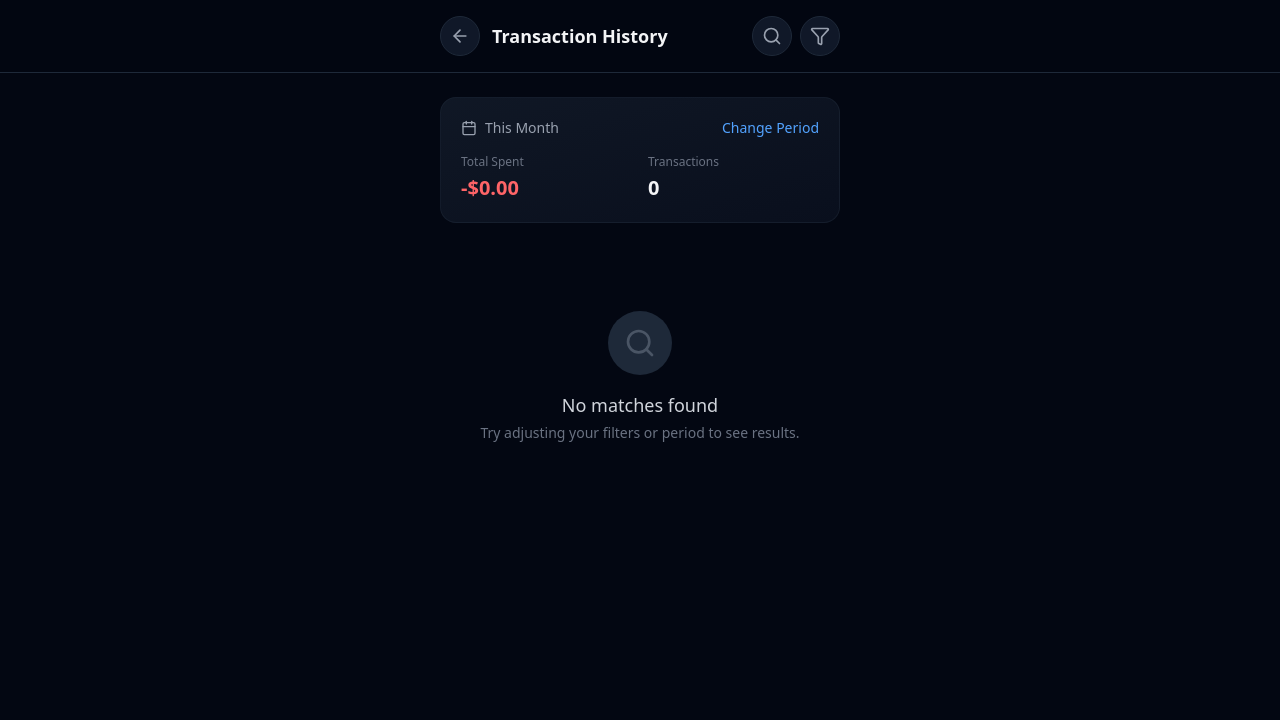
Test: TransactionHistory period selection › supports applying a custom range
This screenshot has width=1280, height=720.
Click the button "Change Period".
click(770, 128)  # box top-left (722, 118), bottom-right (819, 138)
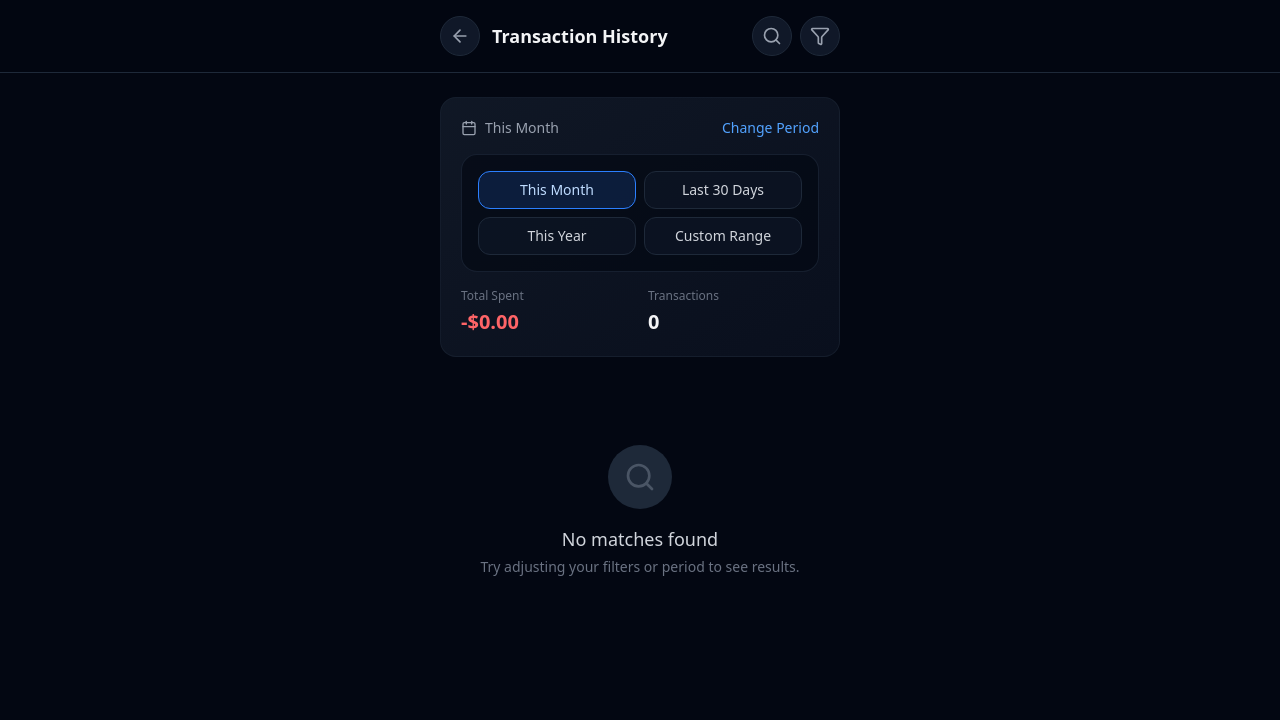
Click the button "Custom Range".
click(723, 236)  # box top-left (644, 217), bottom-right (802, 255)
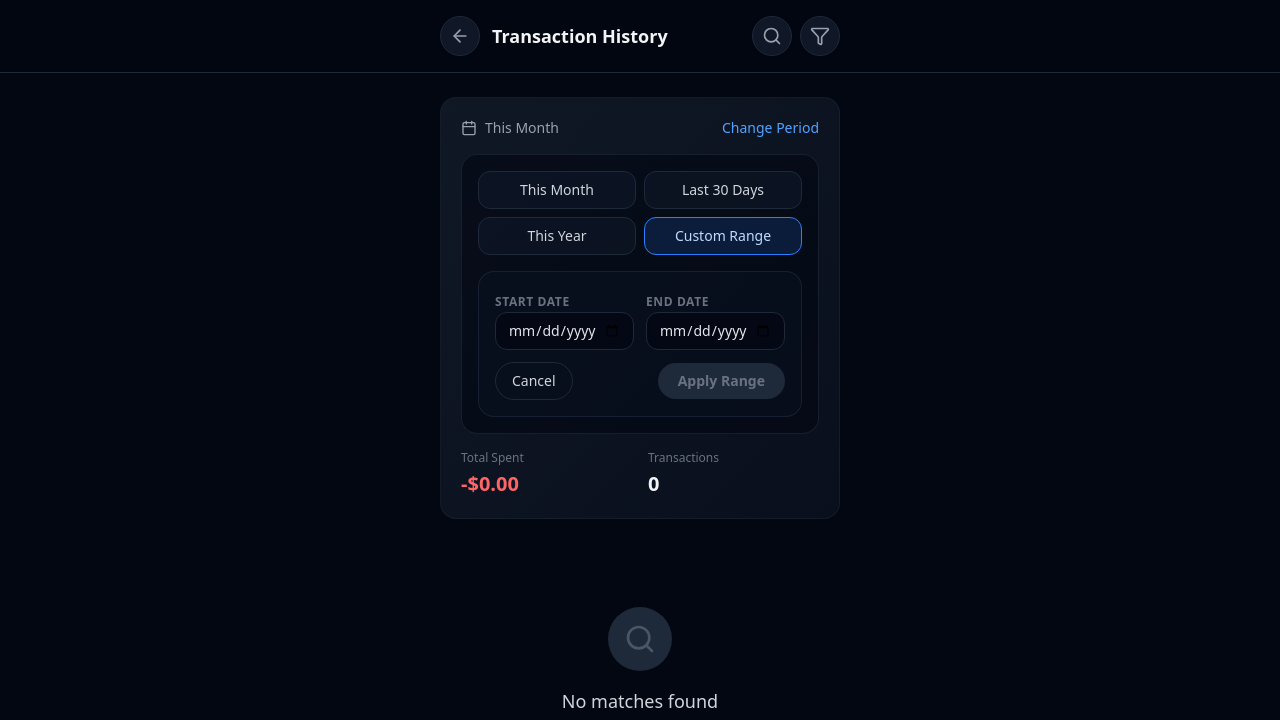
Type "2026-01-10" into the date field labelled "Start Date".
click(564, 331); type("2026-01-10")  # box top-left (495, 312), bottom-right (634, 350)
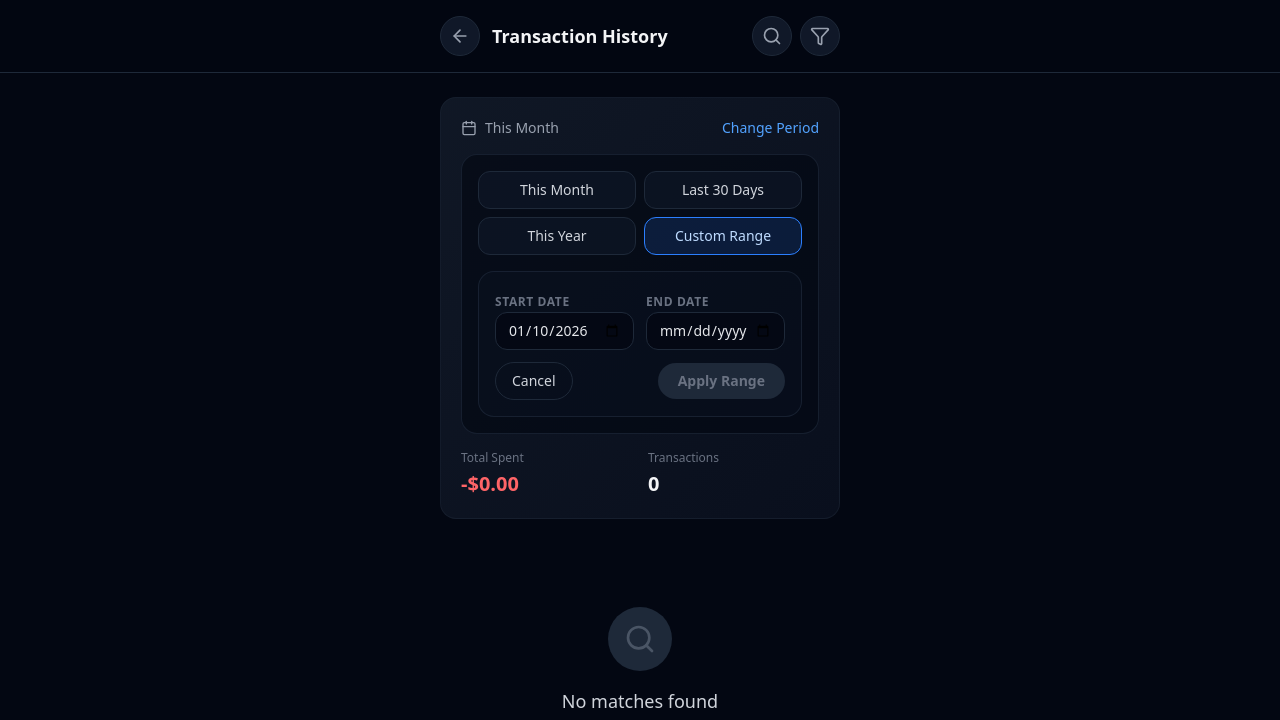
Type "2026-01-31" into the date field labelled "End Date".
click(716, 331); type("2026-01-31")  # box top-left (646, 312), bottom-right (785, 350)
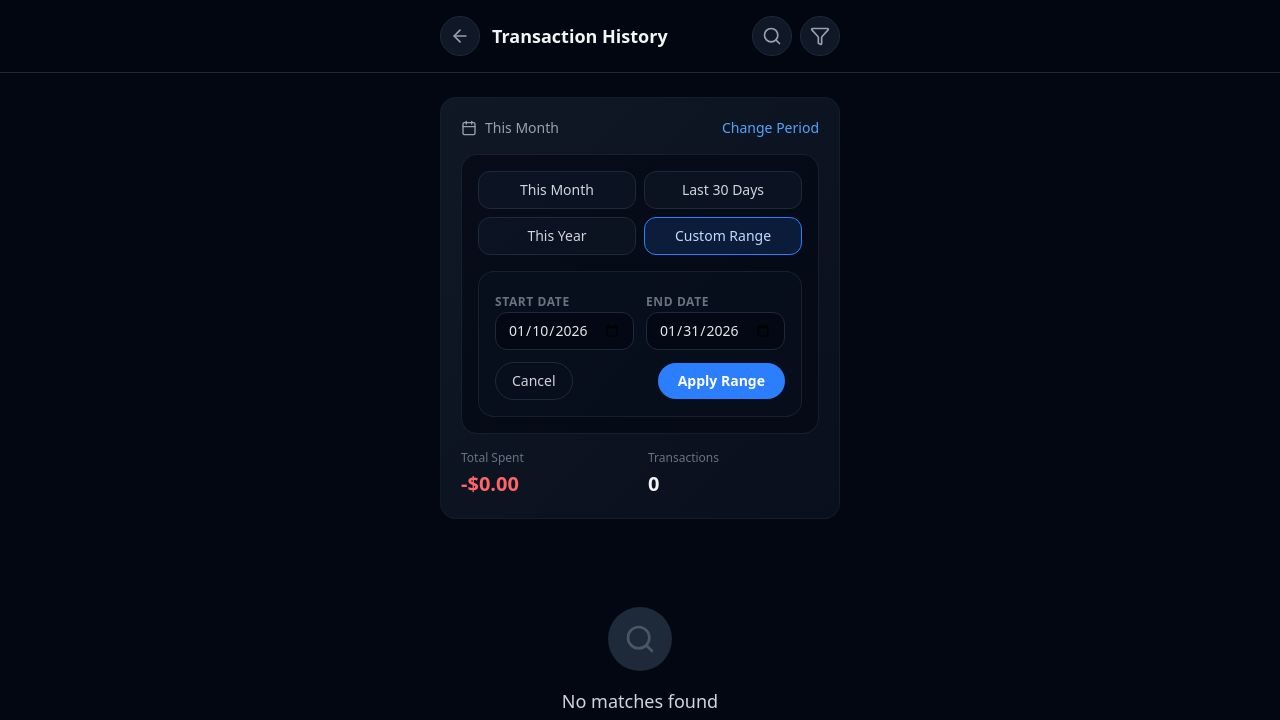
Click the button "Apply Range".
click(721, 381)  # box top-left (658, 363), bottom-right (785, 399)
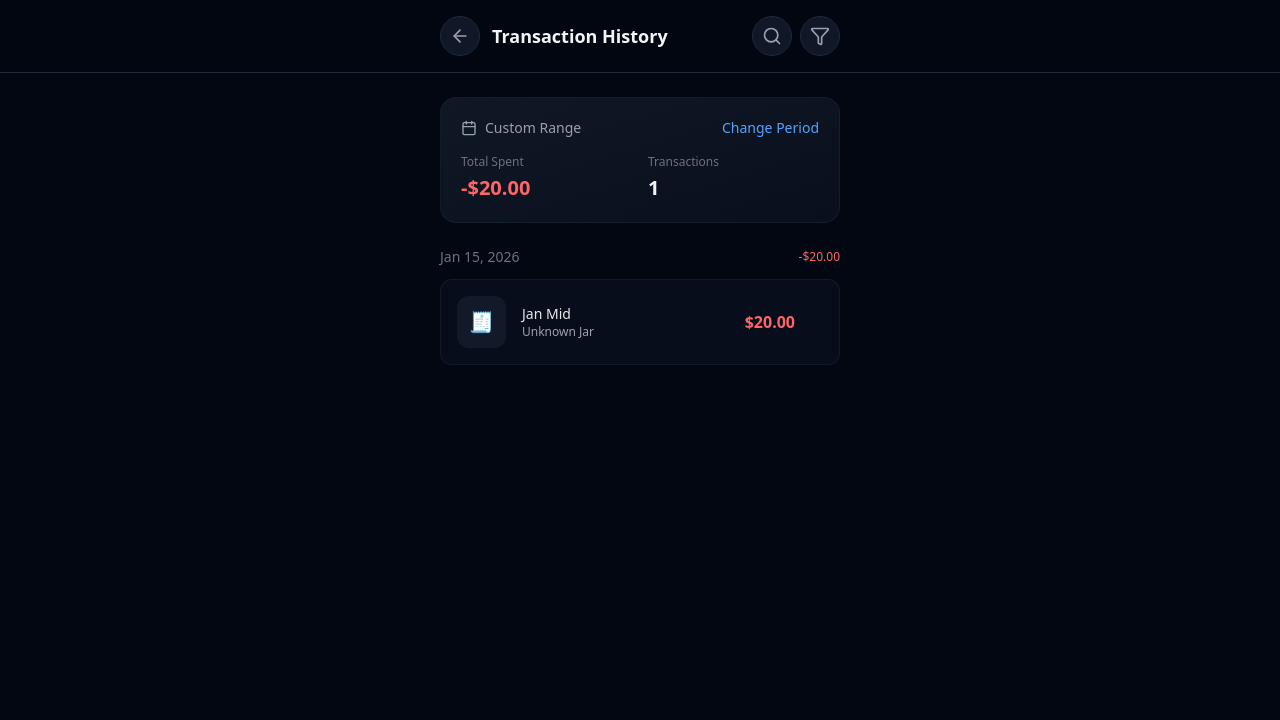
expect the text "Custom Range" is shown: met, box top-left (485, 118), bottom-right (581, 138)
expect the heading "Jan Mid" is shown: met, box top-left (522, 304), bottom-right (571, 323)
